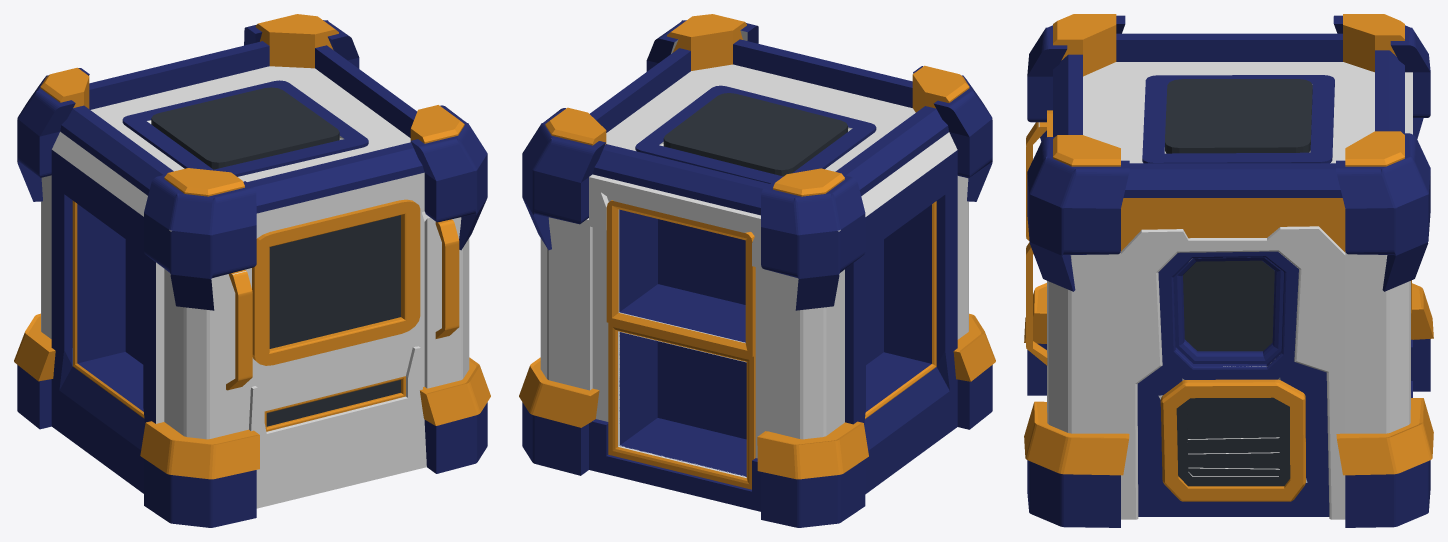
File: Sci-fi box.fbx
3 renders of one model, left to right at view 1: azimuth 30°, elevation 25°; view 2: azimuth 150°, elevation 25°; view 3: azimuth 270°, elevation 25°, orthographic. The views are drawn at different scales.
Visible parts, largest first — view 1: sci_fi_box; view 2: sci_fi_box; view 3: sci_fi_box.
Boxes of the visible parts, x1,y1,x2,y2 form: sci_fi_box: (14,14,490,527); sci_fi_box: (519,14,995,527); sci_fi_box: (1024,14,1433,527).
Bounding box in the file's own units: 495 × 475 × 495.
